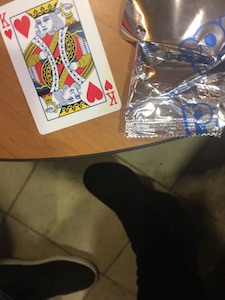KingOfHearts: (1, 1, 126, 137)
